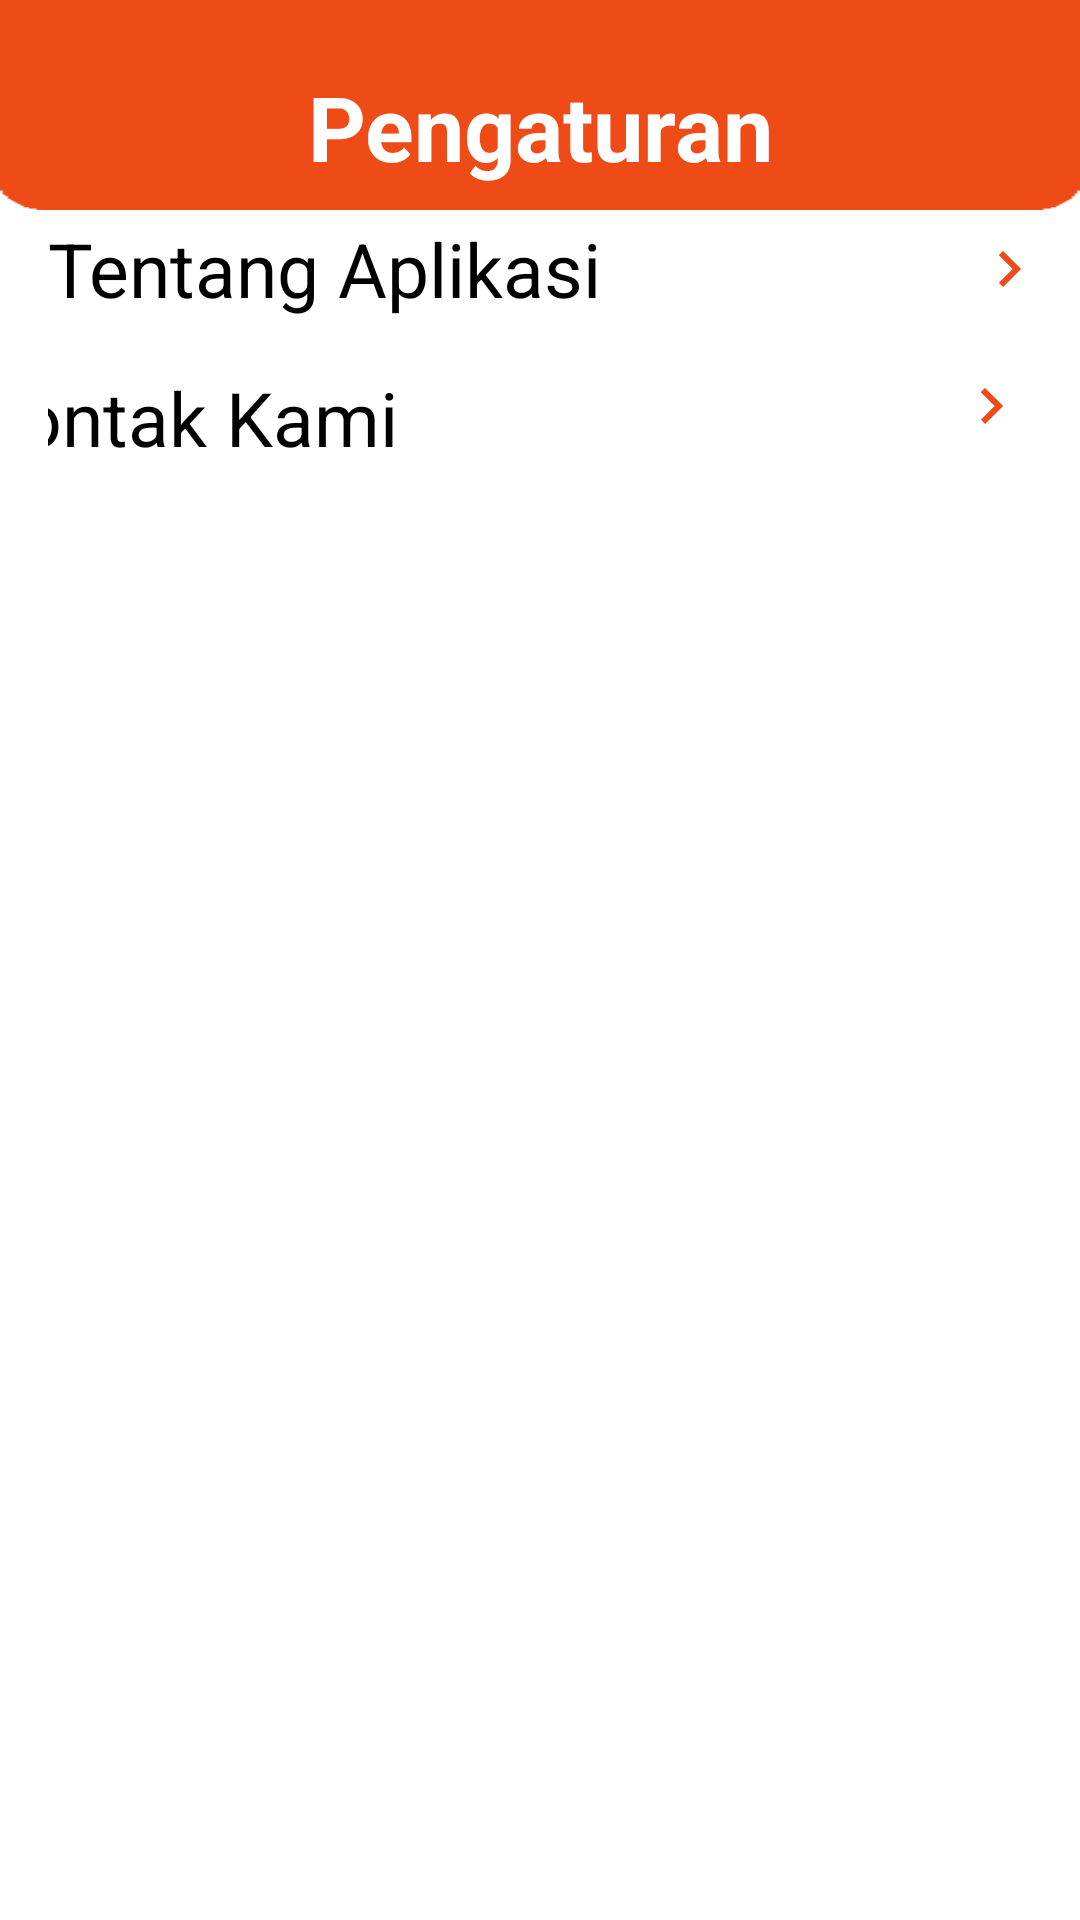

Icon click points for this 1080x1920 phone screenshot, format (x,y):
keyboard arrow right: (1010,269), (992,406)
